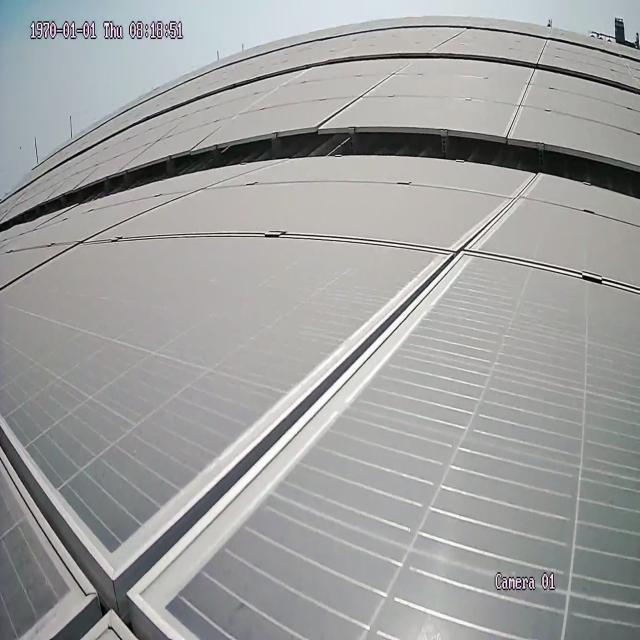interior panel: (0, 180, 536, 636), (321, 62, 404, 122), (506, 74, 539, 131)
outher panel: (2, 129, 640, 232)
